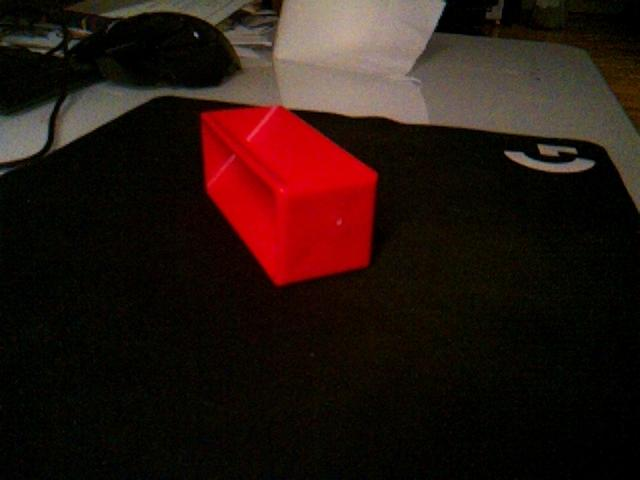red: (198, 103, 380, 288)
